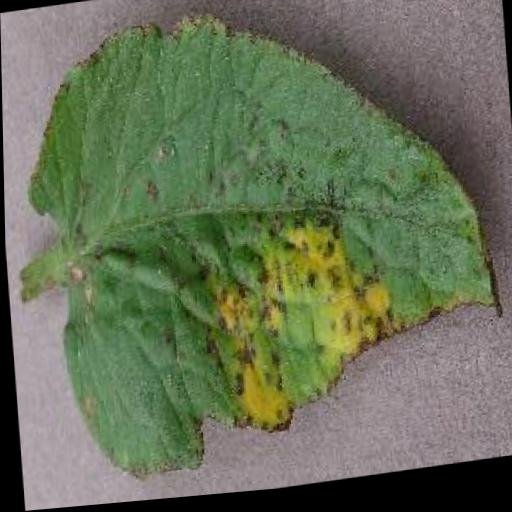Bacterial Spot: (8, 0, 512, 501)
